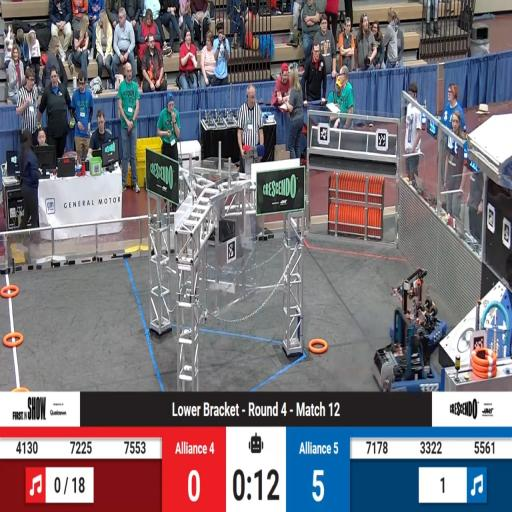robot: (370, 307, 444, 390), (390, 268, 446, 346)
